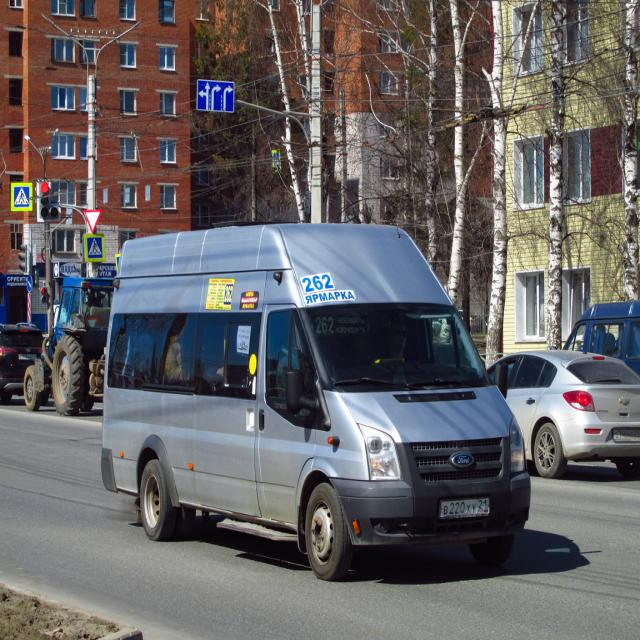number-of-bus: (303, 273, 335, 294), (313, 315, 337, 338)
